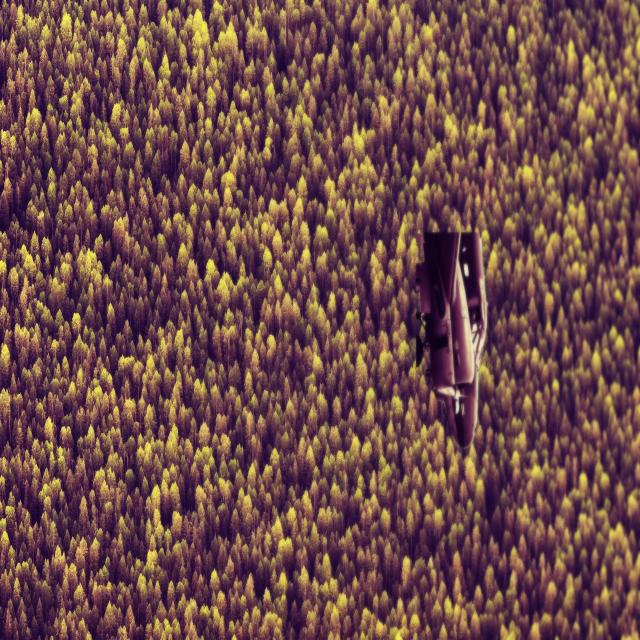airplane: (414, 228, 488, 451)
